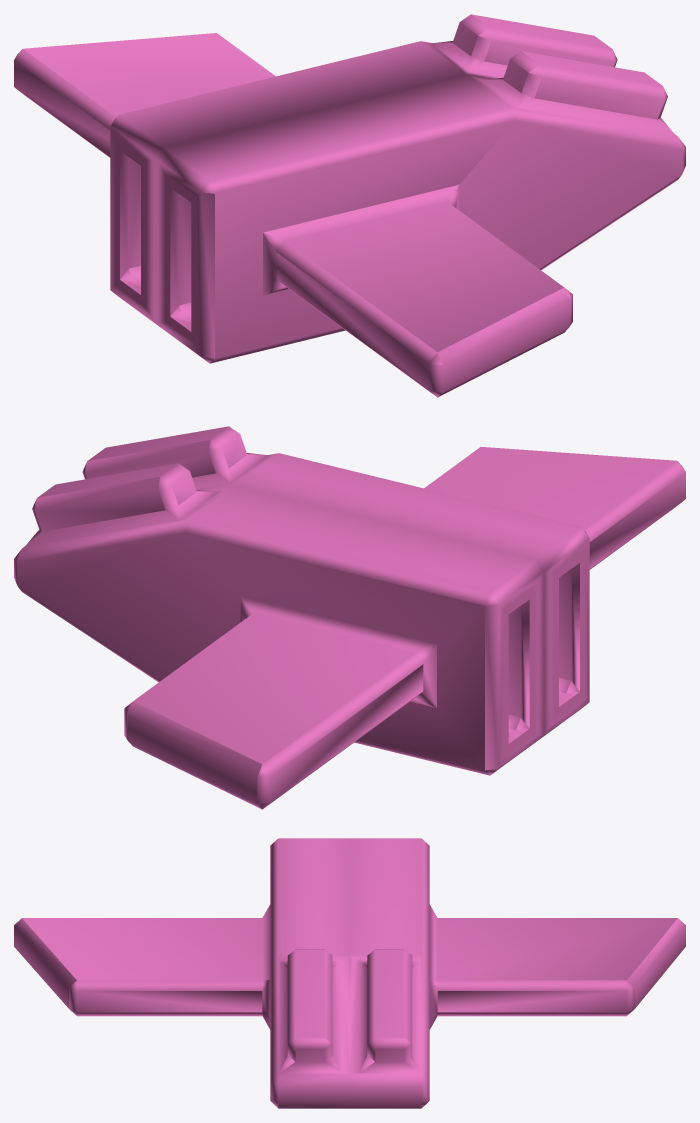
Rendered from gnat4.glb.
The picture shows the model from 3 angles, top to bottom: view 1: azimuth 30°, elevation 25°; view 2: azimuth 150°, elevation 25°; view 3: azimuth 270°, elevation 25°; orthographic projection. The views are drawn at different scales.
Visible parts, largest first — view 1: Gnat.001; view 2: Gnat.001; view 3: Gnat.001.
Boxes of the visible parts, <box> form: Gnat.001: <box>14,14,685,397</box>; Gnat.001: <box>14,426,685,809</box>; Gnat.001: <box>14,838,685,1108</box>.
Bounding box in the file's own units: 5.56 × 2.28 × 8.44.
